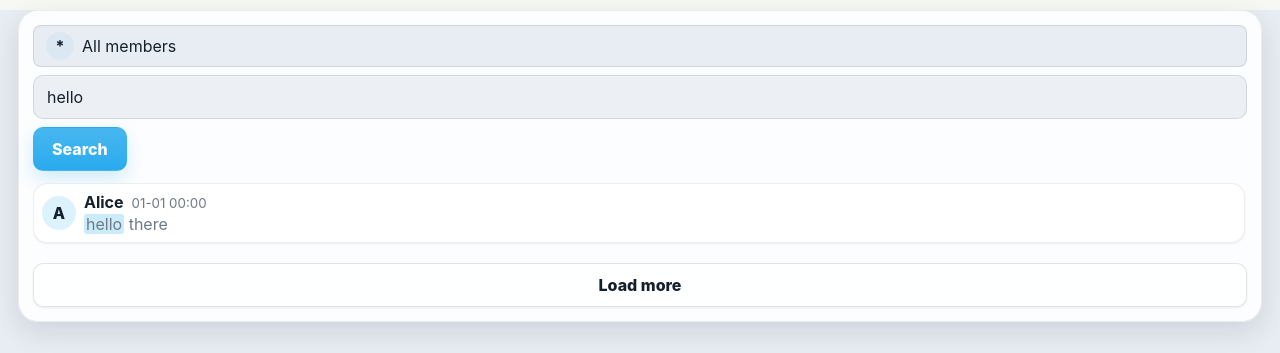
Scenario: SearchPanel › keeps result highlighting and load-more availability tied to the submitted query
This screenshot has width=1280, height=353.
Expected: the button "Load more" is shown, [33,263,1247,307]
Replace the text in the field named "Search messages" with "bye" at (640, 97), box [33,75,1247,119]
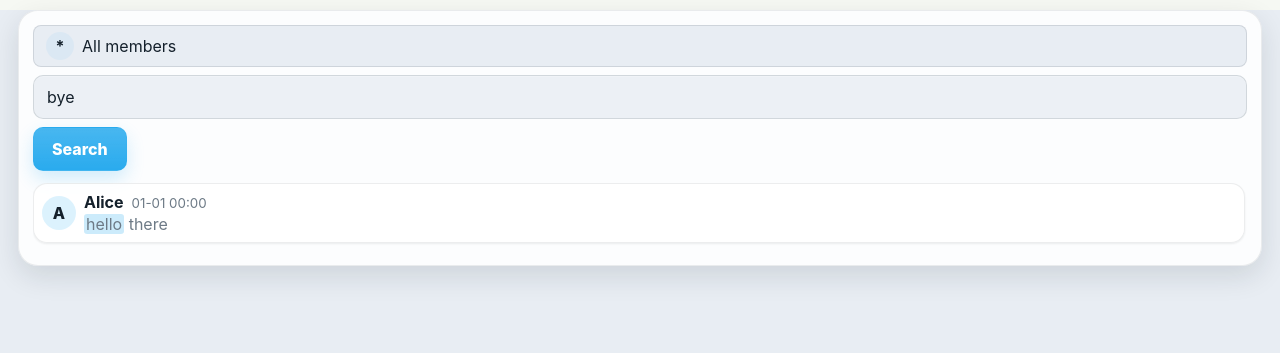
Now the button "Load more" is gone
